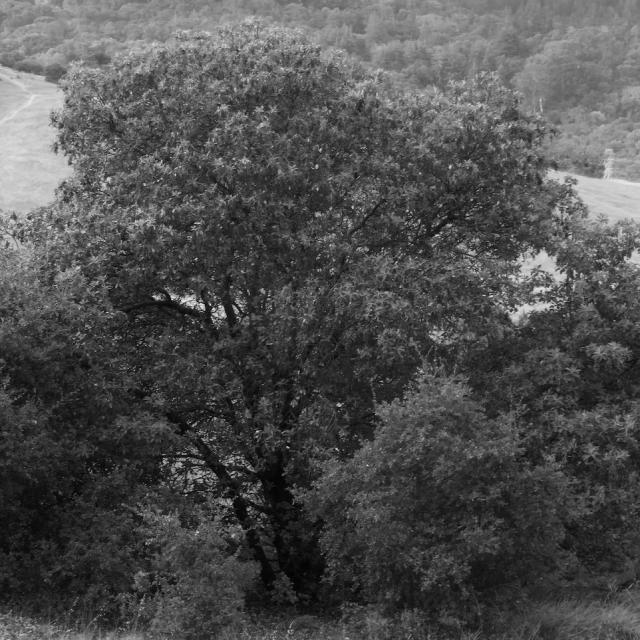Arbutus menziesii: (48, 16, 597, 572)
